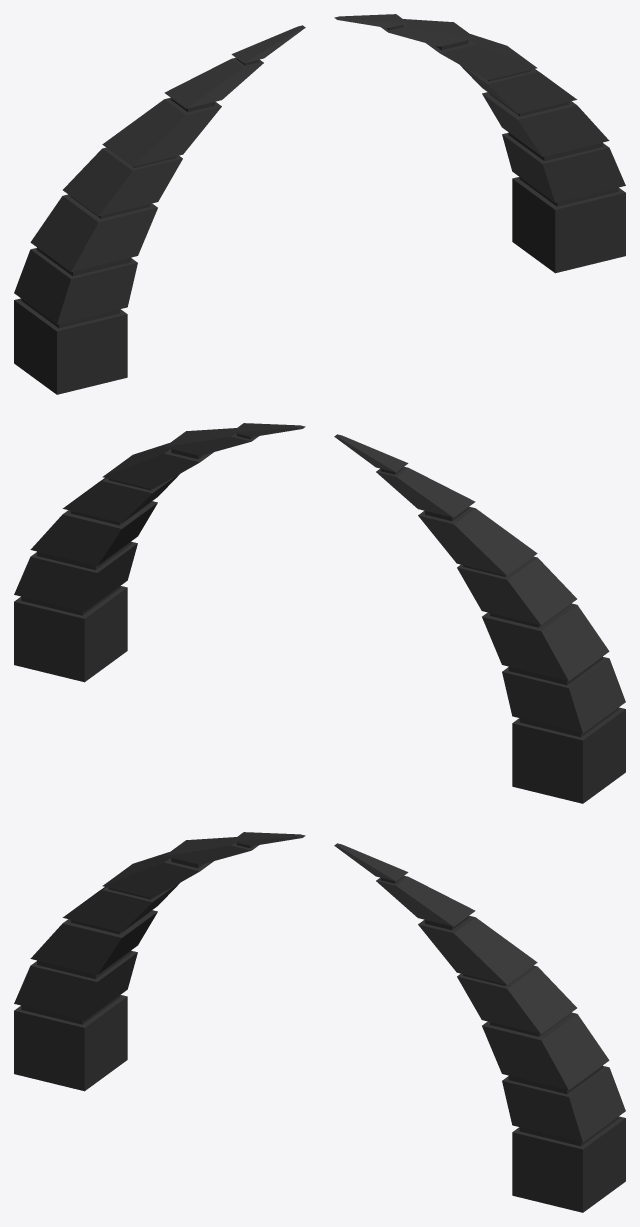
The model's file is Bridgeport2.fbx.
3 renders of one model, top to bottom at view 1: azimuth 30°, elevation 25°; view 2: azimuth 150°, elevation 25°; view 3: azimuth 330°, elevation 25°, orthographic.
Parts seen in each view (by area): view 1: Cube; view 2: Cube; view 3: Cube.
Boxes of the visible parts, left/top/right/bottom form: Cube: left=14, top=14, right=625, bottom=394; Cube: left=14, top=423, right=625, bottom=803; Cube: left=14, top=832, right=625, bottom=1212.
Bounding box in the file's own units: 1040 × 501 × 136.
